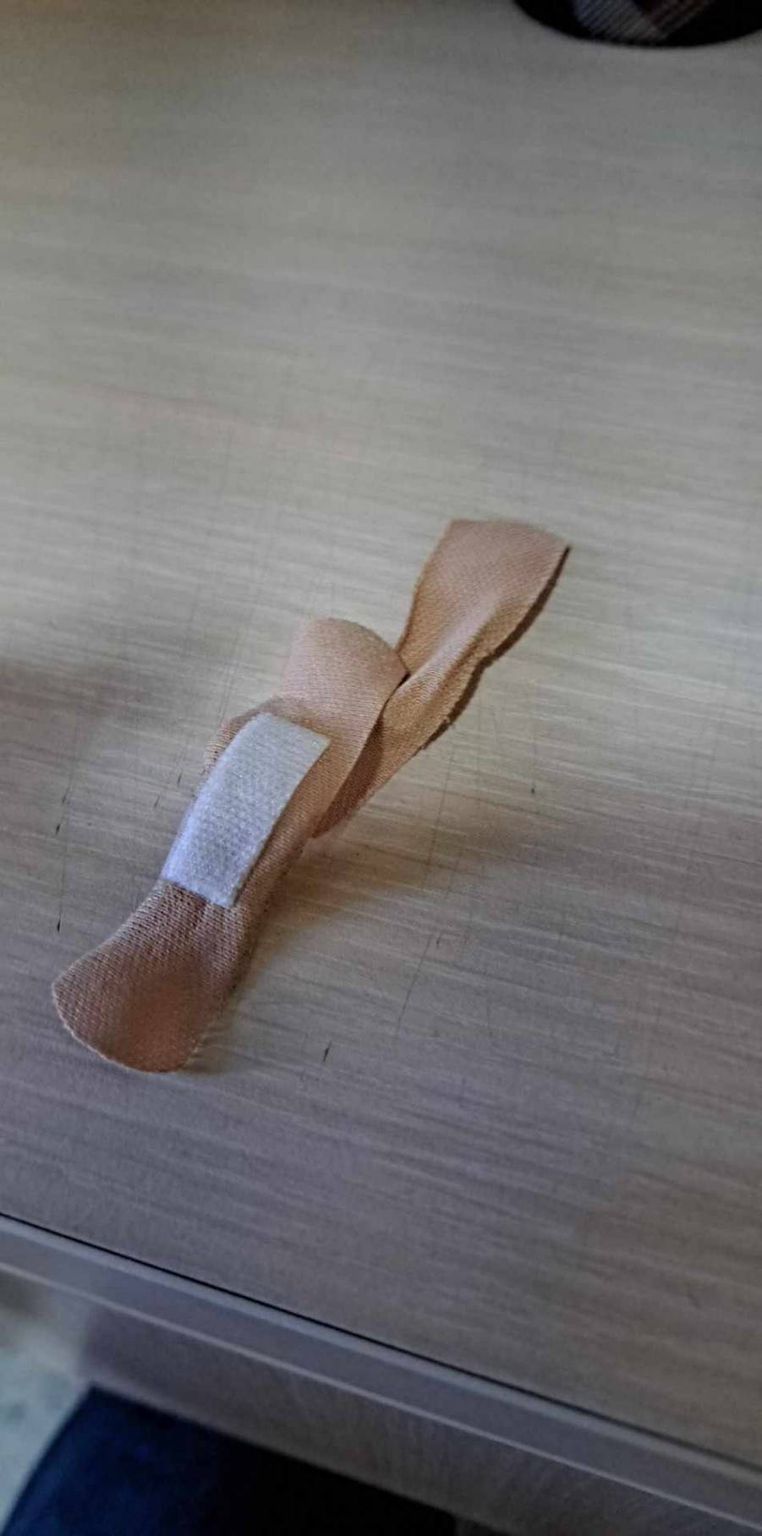General waste: (25, 485, 592, 1113)
